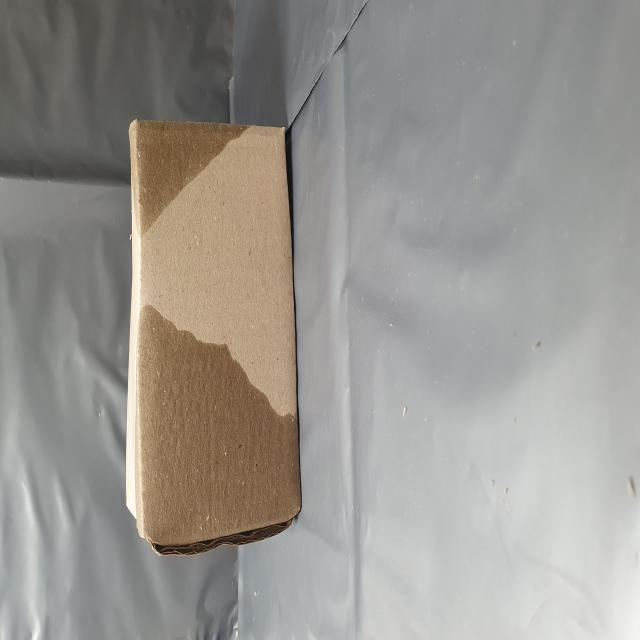wet: (63, 220, 288, 533)
